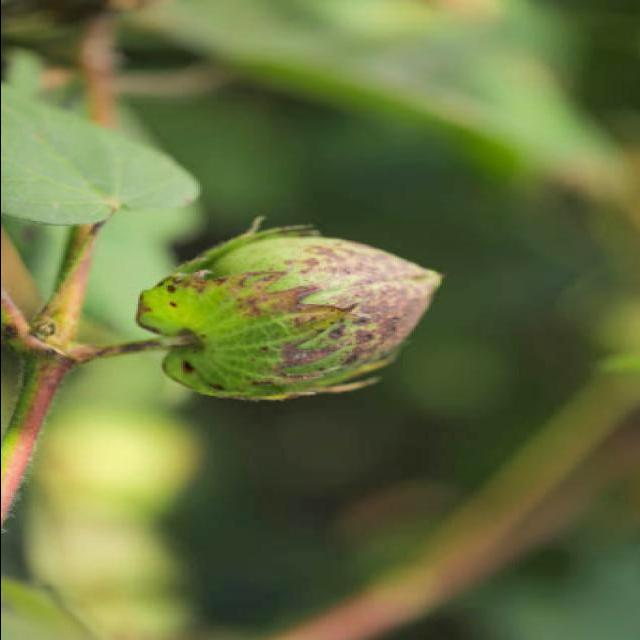Early Boll: (146, 226, 447, 404)
